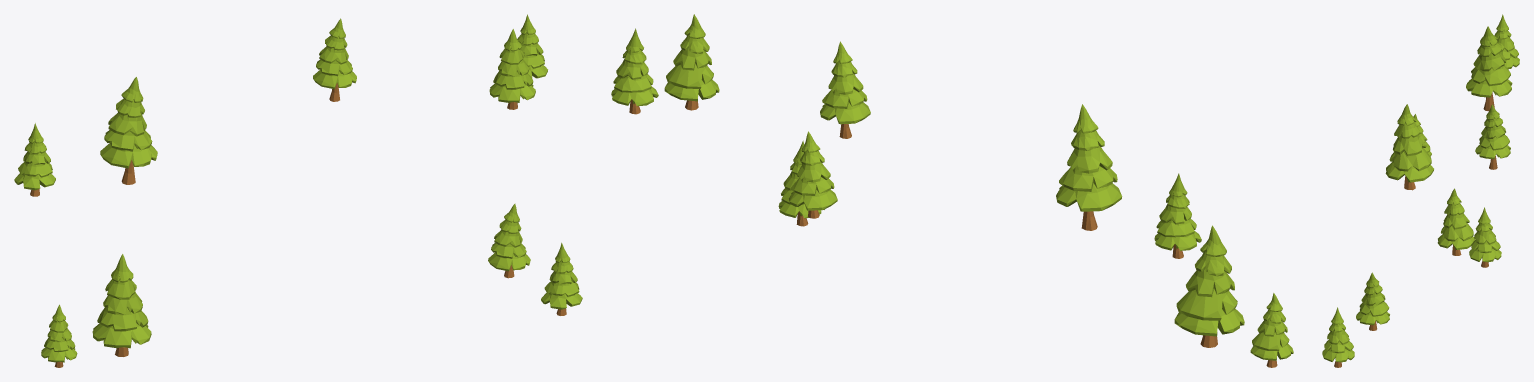
File: pine_tree-v1.glb
3 renders of one model, left to right at view 1: azimuth 30°, elevation 25°; view 2: azimuth 150°, elevation 25°; view 3: azimuth 270°, elevation 25°, orthographic. The views are drawn at different scales.
Parts seen in each view (by area): view 1: Tree_Leaf.008, Tree_Leaf.002, Tree_Leaf.003, Tree_Leaf.009, Tree_Leaf.004, Tree_Leaf.007, Tree_Leaf.001, Tree_Leaf.006, Tree_Leaf.005; view 2: Tree_Leaf.008, Tree_Leaf.002, Tree_Leaf.003, Tree_Leaf.009, Tree_Leaf.004, Tree_Leaf.001, Tree_Leaf.005, Tree_Leaf.006, Tree_Leaf.007; view 3: Tree_Leaf.008, Tree_Leaf.002, Tree_Leaf.003, Tree_Leaf.009, Tree_Leaf.004, Tree_Leaf.007, Tree_Leaf.005, Tree_Leaf.001, Tree_Leaf.006.
Part boxes in pixels (x1=…): Tree_Leaf.008: x1=92, y1=254, x2=151, y2=348; Tree_Leaf.002: x1=100, y1=77, x2=157, y2=168; Tree_Leaf.003: x1=489, y1=29, x2=535, y2=102; Tree_Leaf.009: x1=313, y1=18, x2=356, y2=89; Tree_Leaf.004: x1=488, y1=203, x2=530, y2=271; Tree_Leaf.007: x1=541, y1=242, x2=582, y2=309; Tree_Leaf.001: x1=14, y1=123, x2=55, y2=190; Tree_Leaf.006: x1=41, y1=304, x2=77, y2=362; Tree_Leaf.005: x1=517, y1=14, x2=547, y2=78; Tree_Leaf.008: x1=1174, y1=225, x2=1244, y2=336; Tree_Leaf.002: x1=1056, y1=104, x2=1122, y2=211; Tree_Leaf.003: x1=664, y1=14, x2=719, y2=101; Tree_Leaf.009: x1=820, y1=41, x2=870, y2=124; Tree_Leaf.004: x1=789, y1=131, x2=837, y2=210; Tree_Leaf.001: x1=1154, y1=173, x2=1201, y2=250; Tree_Leaf.005: x1=611, y1=28, x2=658, y2=106; Tree_Leaf.006: x1=1250, y1=293, x2=1293, y2=360; Tree_Leaf.007: x1=778, y1=140, x2=824, y2=218; Tree_Leaf.008: x1=1385, y1=104, x2=1433, y2=182; Tree_Leaf.002: x1=1466, y1=26, x2=1512, y2=97; Tree_Leaf.003: x1=1437, y1=188, x2=1475, y2=249; Tree_Leaf.009: x1=1475, y1=104, x2=1510, y2=159; Tree_Leaf.004: x1=1356, y1=272, x2=1389, y2=325; Tree_Leaf.007: x1=1322, y1=307, x2=1354, y2=362; Tree_Leaf.005: x1=1469, y1=207, x2=1501, y2=262; Tree_Leaf.001: x1=1494, y1=14, x2=1519, y2=69; Tree_Leaf.006: x1=1413, y1=114, x2=1431, y2=156.
Size of the model in its own units: 2.9 by 1.32 by 1.12.
